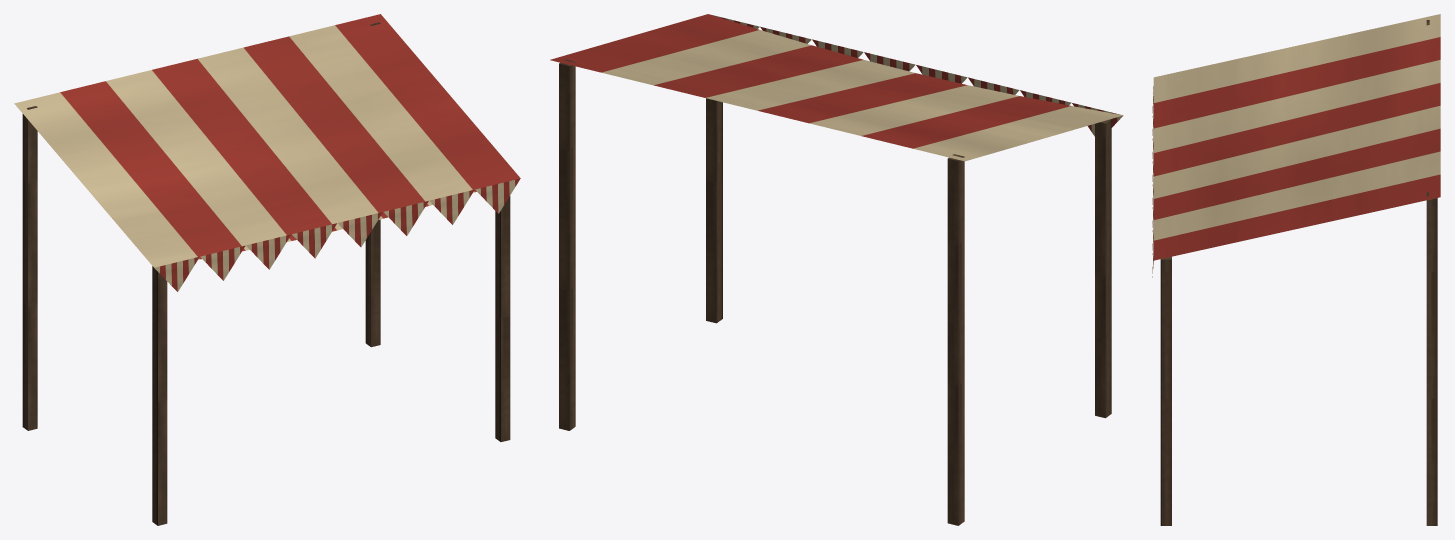
Rendered from Awning_Striped_1.gltf.
3 renders of one model, left to right at view 1: azimuth 30°, elevation 25°; view 2: azimuth 150°, elevation 25°; view 3: azimuth 270°, elevation 25°, orthographic. The views are drawn at different scales.
Parts seen in each view (by area): view 1: Awning_Striped_1; view 2: Awning_Striped_1; view 3: Awning_Striped_1.
Part boxes in pixels (bbox=[...]): Awning_Striped_1: bbox=[14, 14, 520, 525]; Awning_Striped_1: bbox=[550, 14, 1123, 525]; Awning_Striped_1: bbox=[1152, 14, 1440, 525].
Size of the model in its own units: 3.1 by 2.62 by 2.06.
2 materials, 2 textured.
